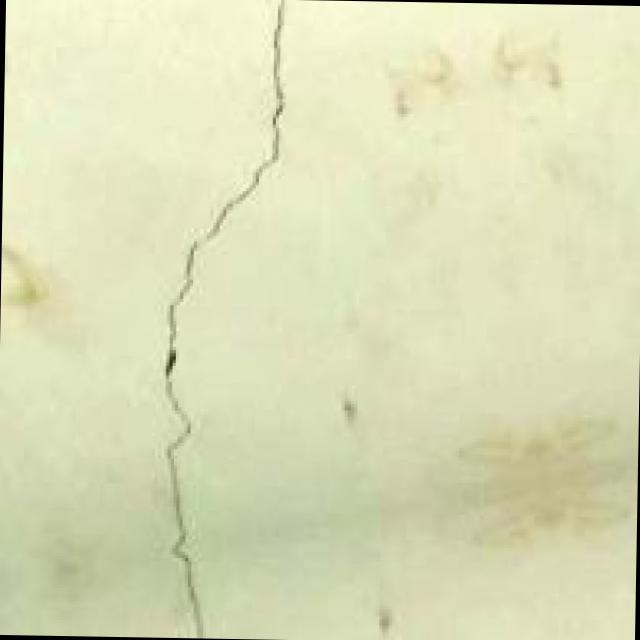crack: (119, 0, 319, 633)
